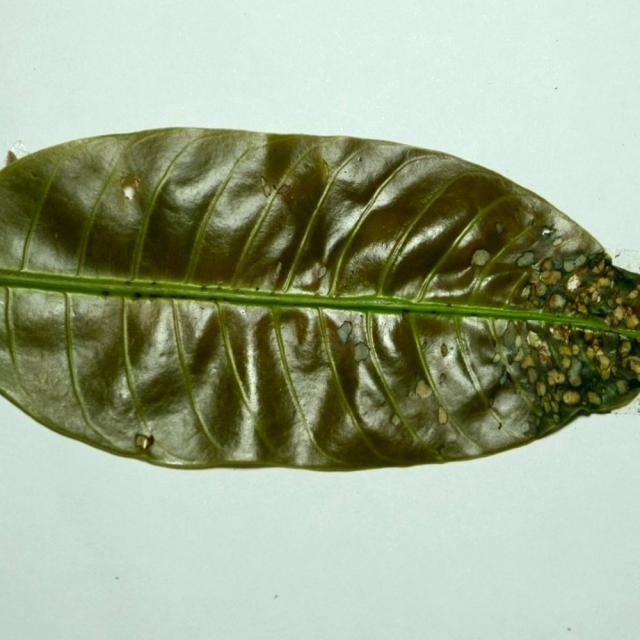Anthracnose: (337, 302, 468, 436), (568, 262, 630, 323), (516, 330, 564, 388), (337, 320, 371, 363), (616, 339, 636, 375), (562, 254, 588, 273), (527, 332, 548, 353), (502, 323, 518, 348), (516, 250, 537, 268), (471, 249, 491, 267), (539, 269, 561, 285), (547, 293, 566, 310), (554, 324, 571, 342), (597, 353, 611, 372), (551, 255, 566, 269), (587, 391, 601, 405), (528, 269, 541, 284), (540, 257, 553, 272), (534, 282, 547, 296), (514, 348, 525, 363), (592, 261, 604, 274), (520, 285, 531, 299), (491, 352, 502, 364), (586, 346, 596, 359), (576, 306, 588, 316), (595, 347, 605, 359), (583, 330, 593, 342), (552, 237, 563, 247)
Mango: (0, 127, 639, 475)
